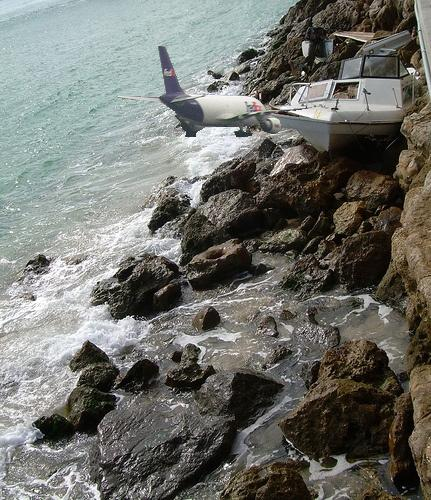tampered: (118, 47, 312, 137)
